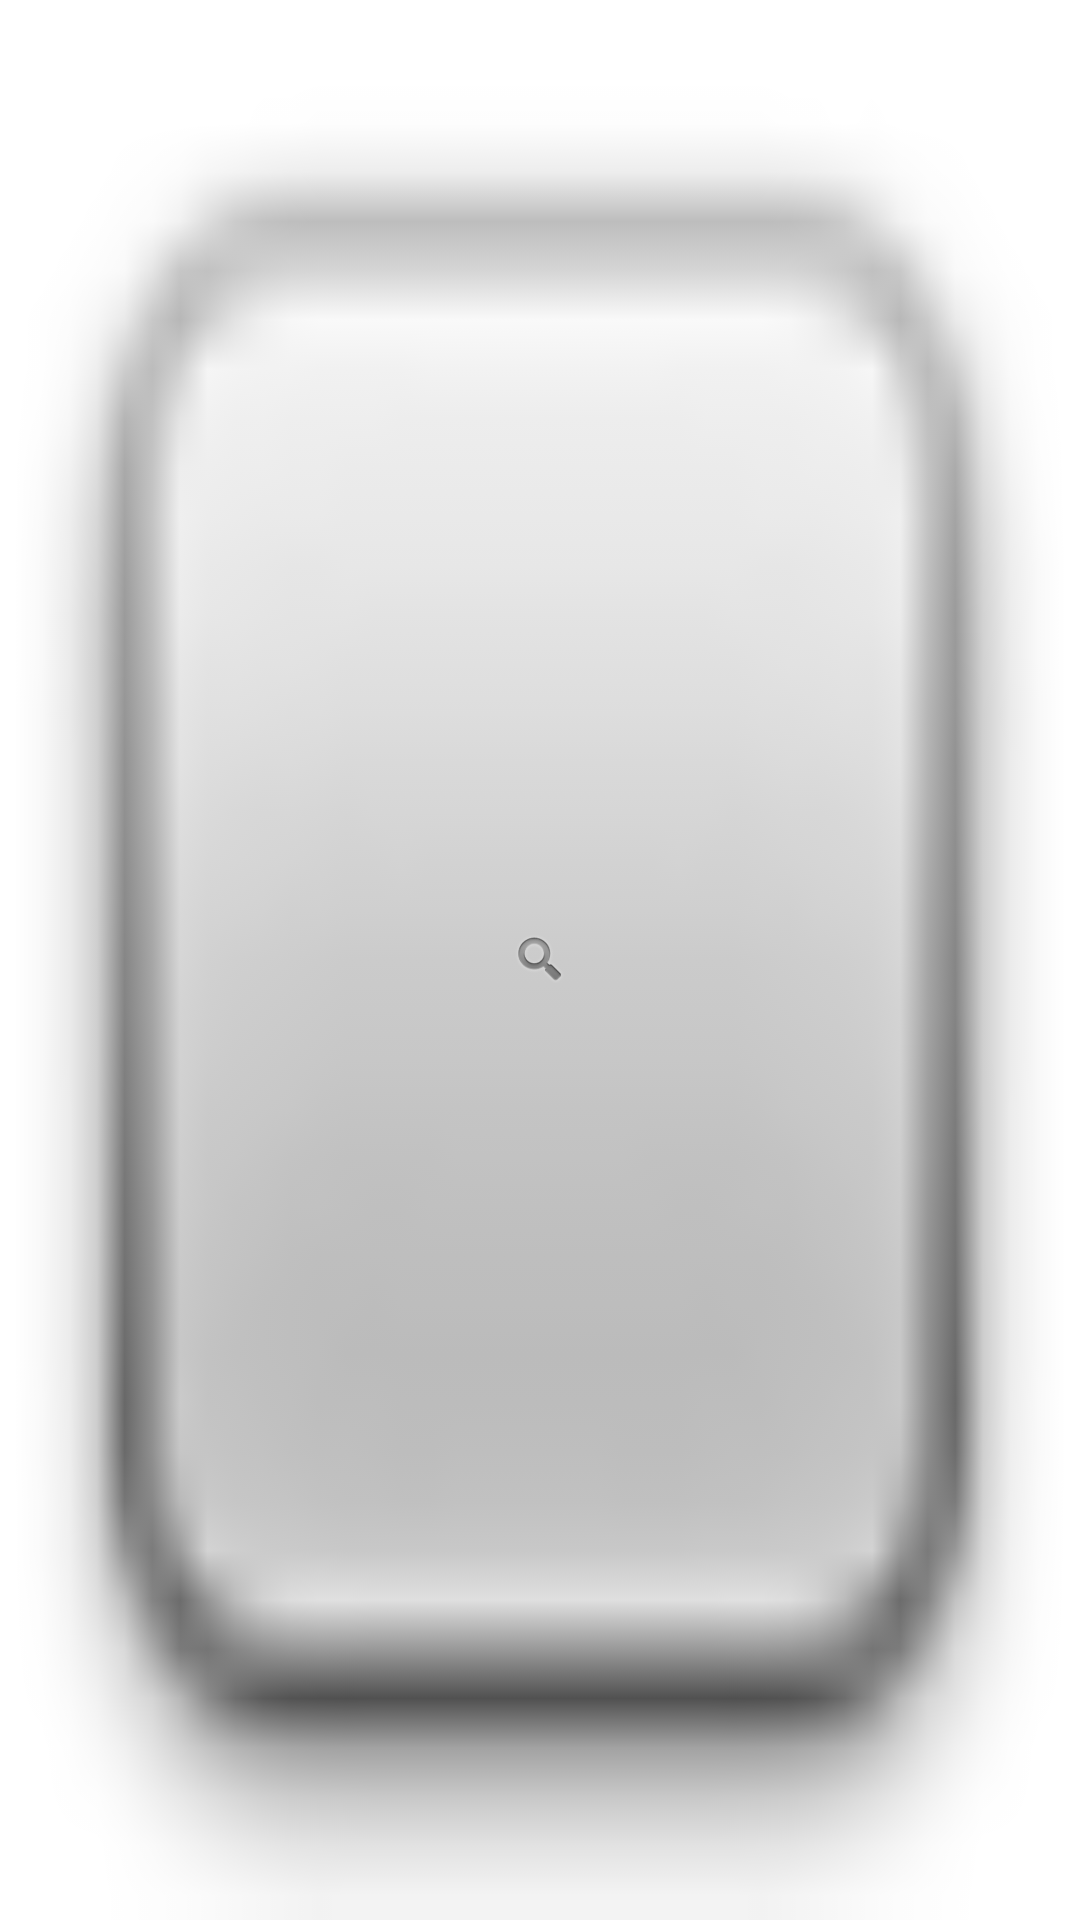

Locate icon controls on the screen. Image size 1080×1920, boxes as [left=x1, top=y1, right=x2, bottom=y2].
search category: [left=518, top=937, right=561, bottom=980]
